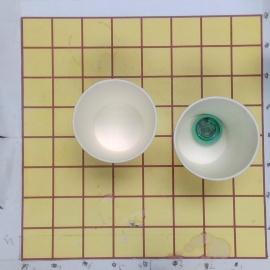cup: (72, 80, 159, 166)
cup_green: (175, 94, 259, 183)
